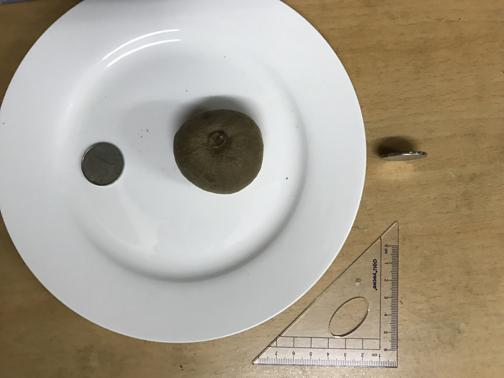coin: (80, 143, 123, 185)
qiwi: (174, 111, 262, 195)
